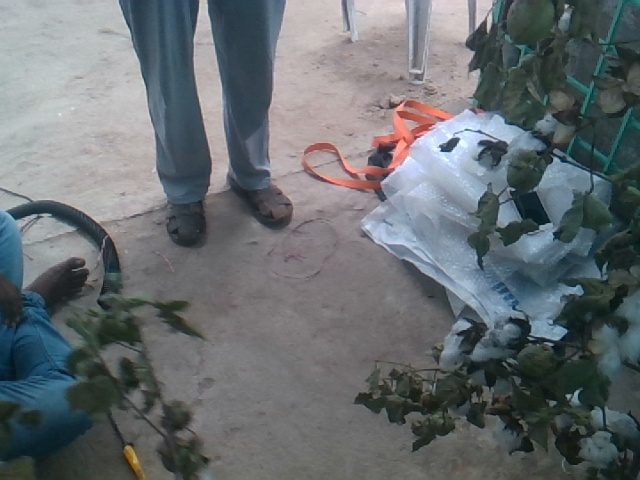cotton: (471, 313, 525, 363), (594, 320, 640, 375), (572, 431, 624, 467), (437, 317, 473, 368), (591, 407, 639, 442)
